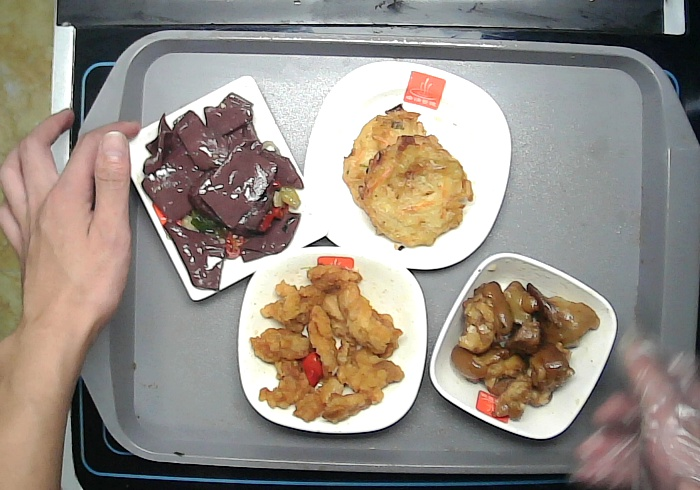SHKJ-Bai_Se_Cai_Die: (235, 244, 429, 436)
SHKJ-Bai_Se_Si_Fang_Cai_Die: (303, 57, 514, 270)
SHKJ-Bai_Se_Xiao_Fang_Die: (427, 250, 620, 441)
SHKJ-Si_Fang_Min: (126, 72, 329, 303)
